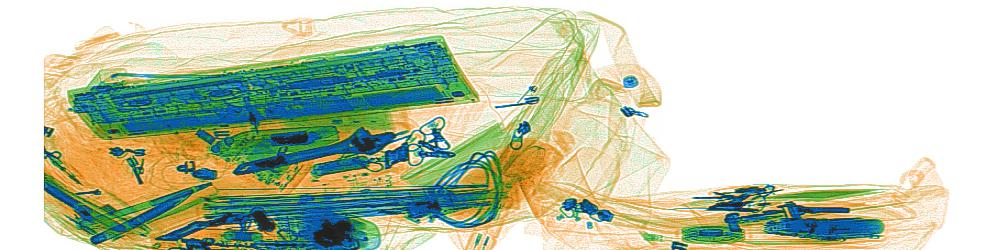battery: (307, 153, 373, 178), (219, 229, 264, 243)
